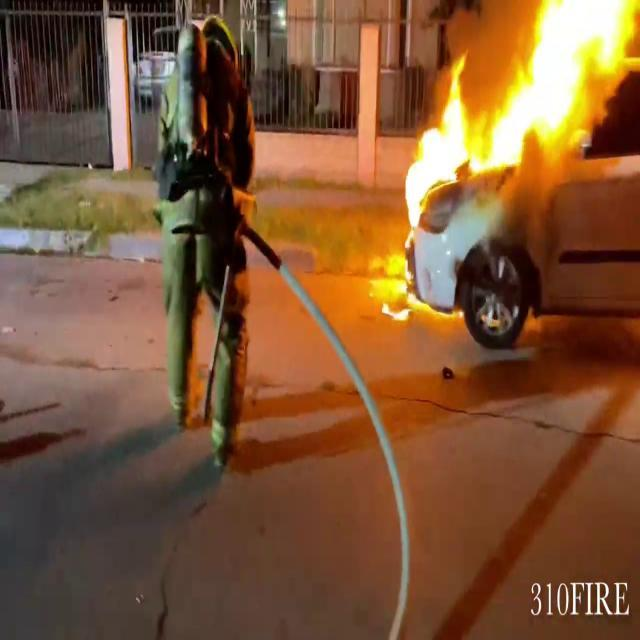Fire: (396, 0, 640, 197)
